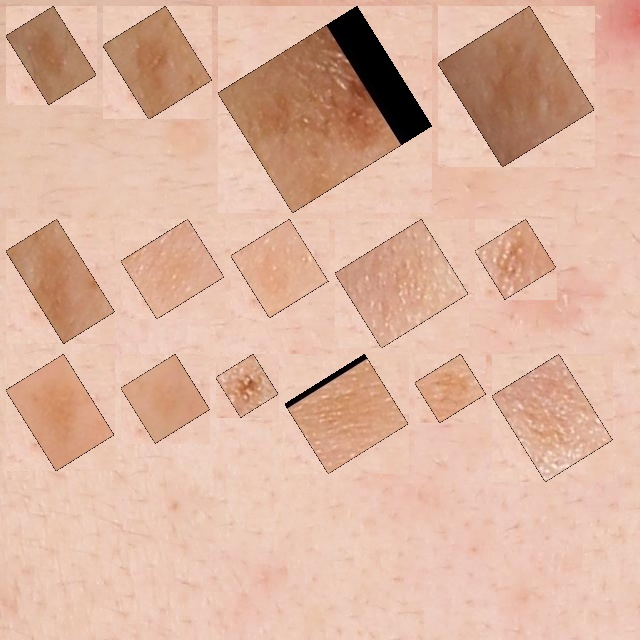melasma: (229, 17, 421, 201), (449, 17, 583, 156), (346, 230, 457, 337), (503, 365, 601, 470), (296, 365, 397, 462), (17, 230, 104, 332), (17, 365, 103, 460), (114, 17, 201, 108), (132, 230, 213, 308), (242, 230, 317, 306), (17, 17, 85, 93), (132, 365, 199, 432), (486, 230, 545, 288), (426, 365, 475, 411)
nevus: (227, 365, 267, 406)
